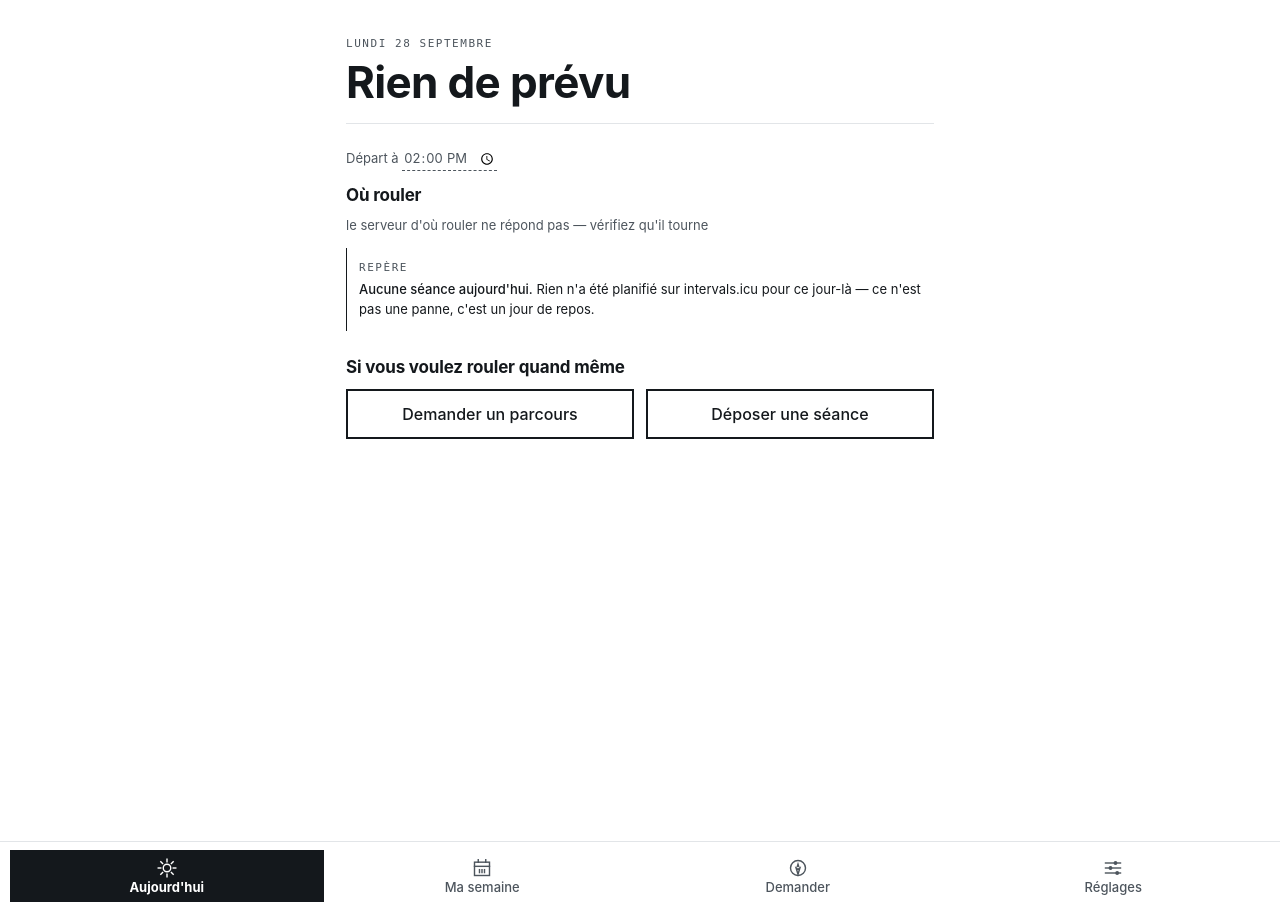
Test: Mes sorties passées › reprend le suivi d'un import après un rechargement de la page
This screenshot has width=1280, height=912.
Click the button "Déposer une séance" at (790, 414), box [646,389,934,439]
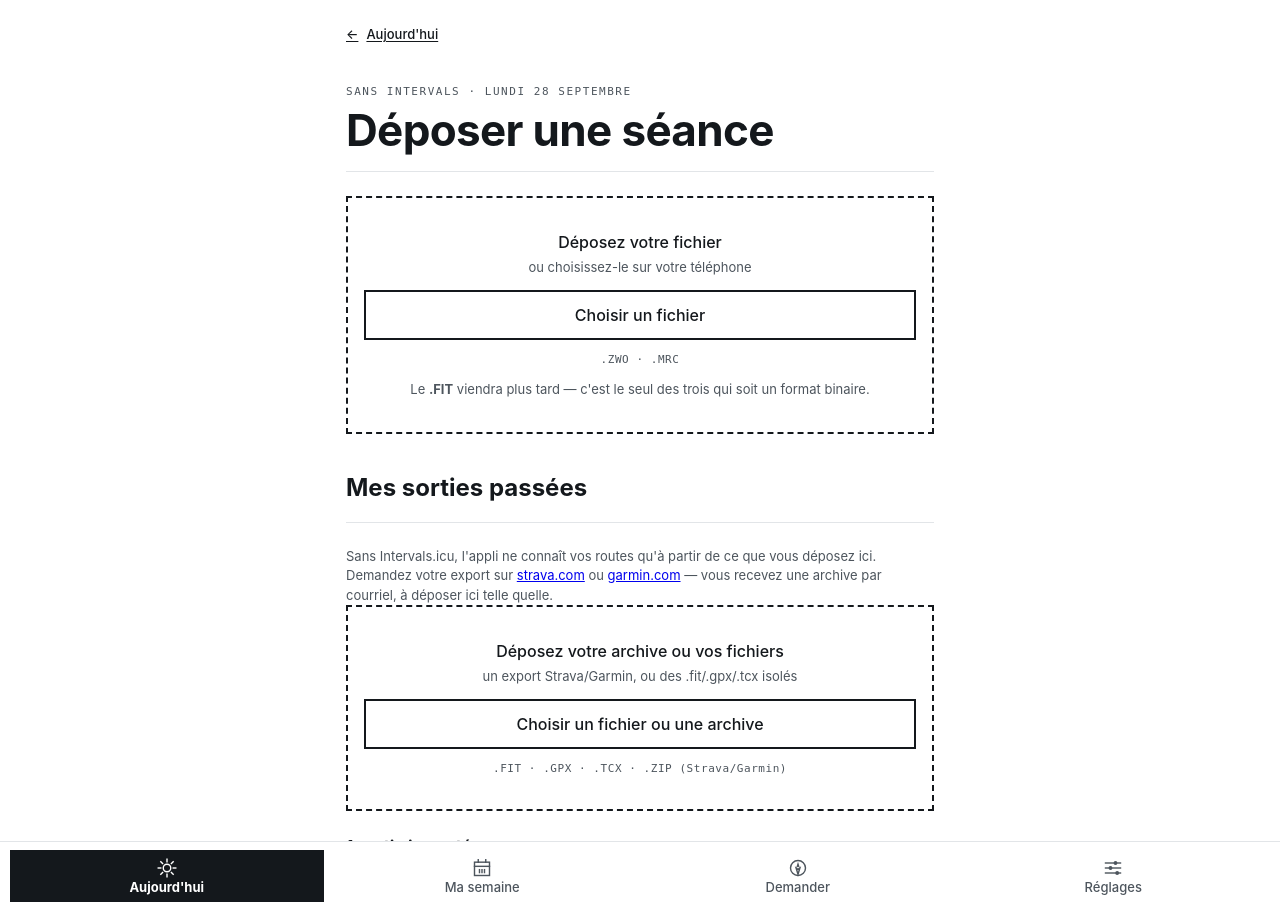
Check: the heading "Mes sorties passées" is shown, box [346,470,587,506]
Check: the heading "1 sortie importée" is shown, box [346,835,482,861]
